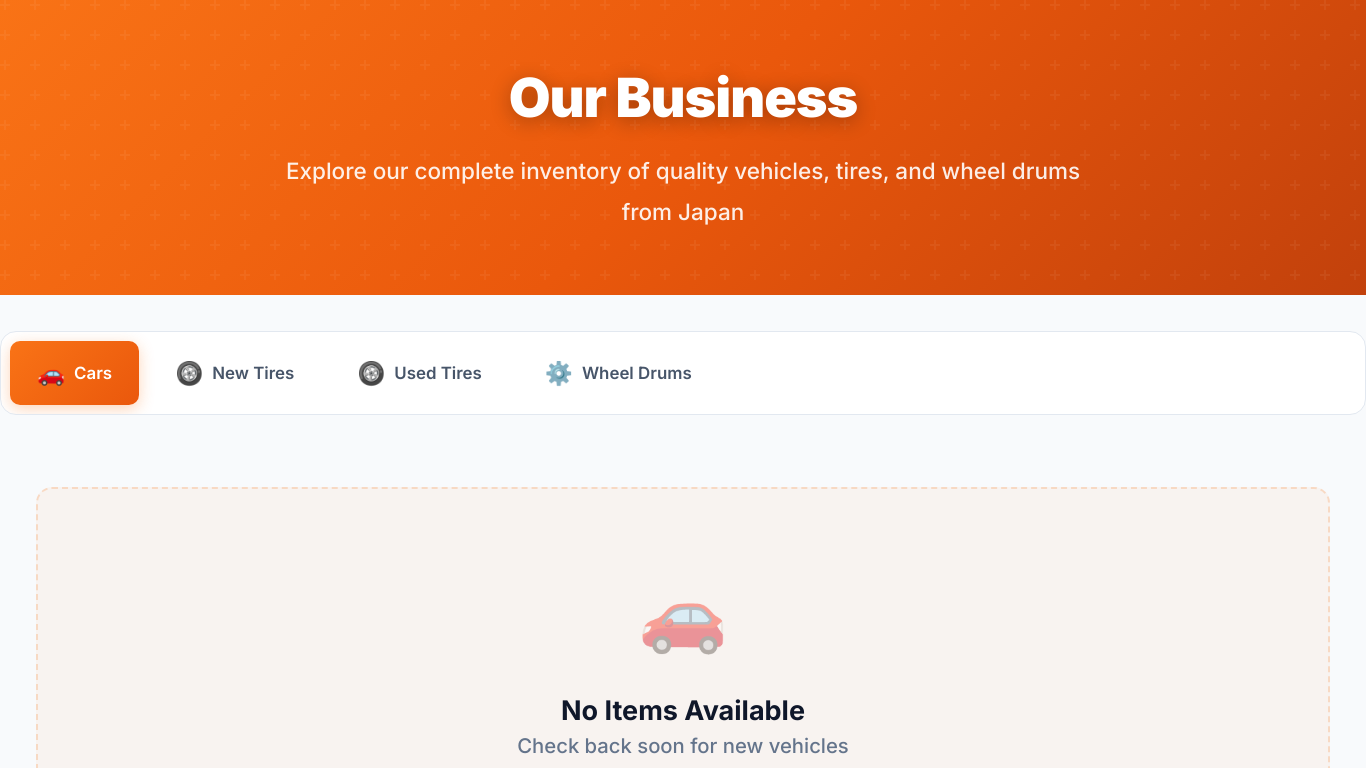
Test case: Business › empty states › should show empty state for new tires when no new tires available
Click the button "🛞 New Tires".
click(235, 373)  # box [148,341,321,405]
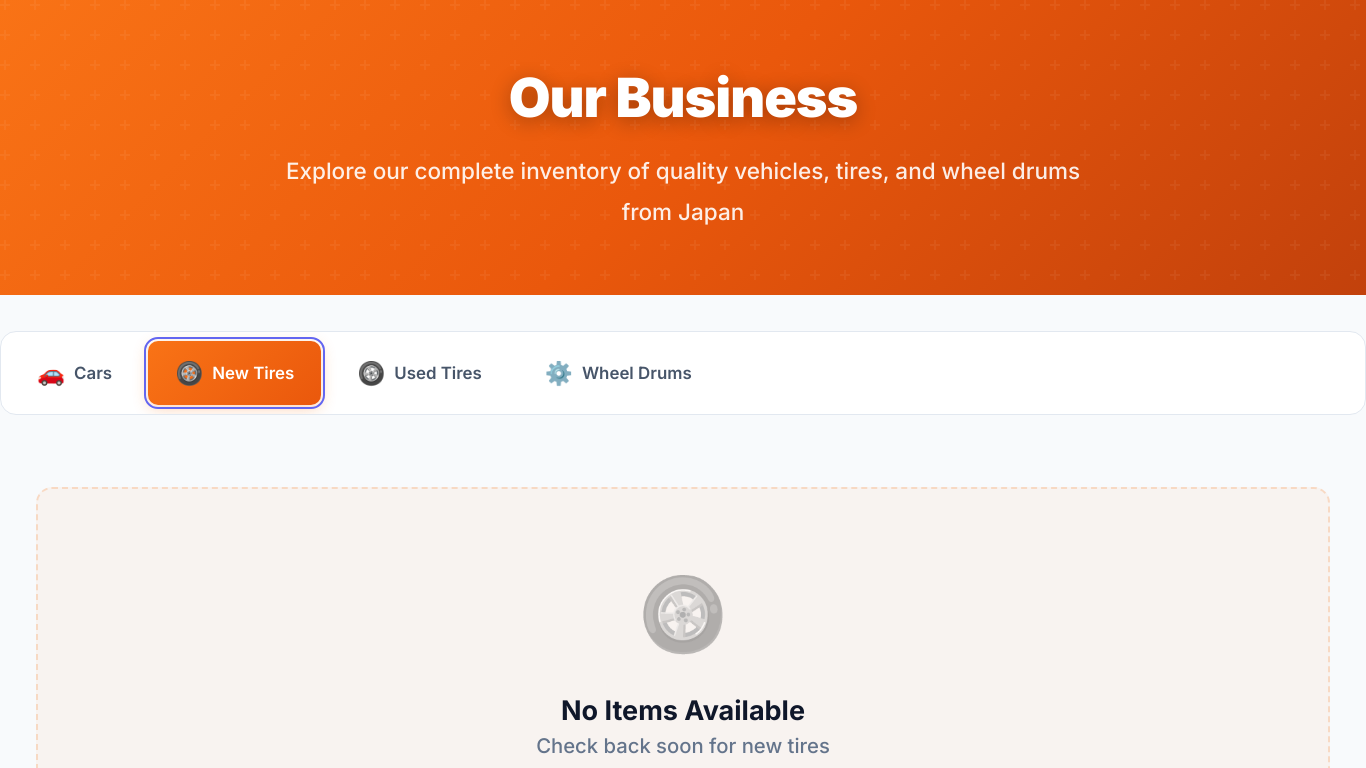
Expected: the heading "No Items Available" is shown, [561,693,805,728]
Result: the text "Check back soon for new tires" is shown at [536,728,830,764]
